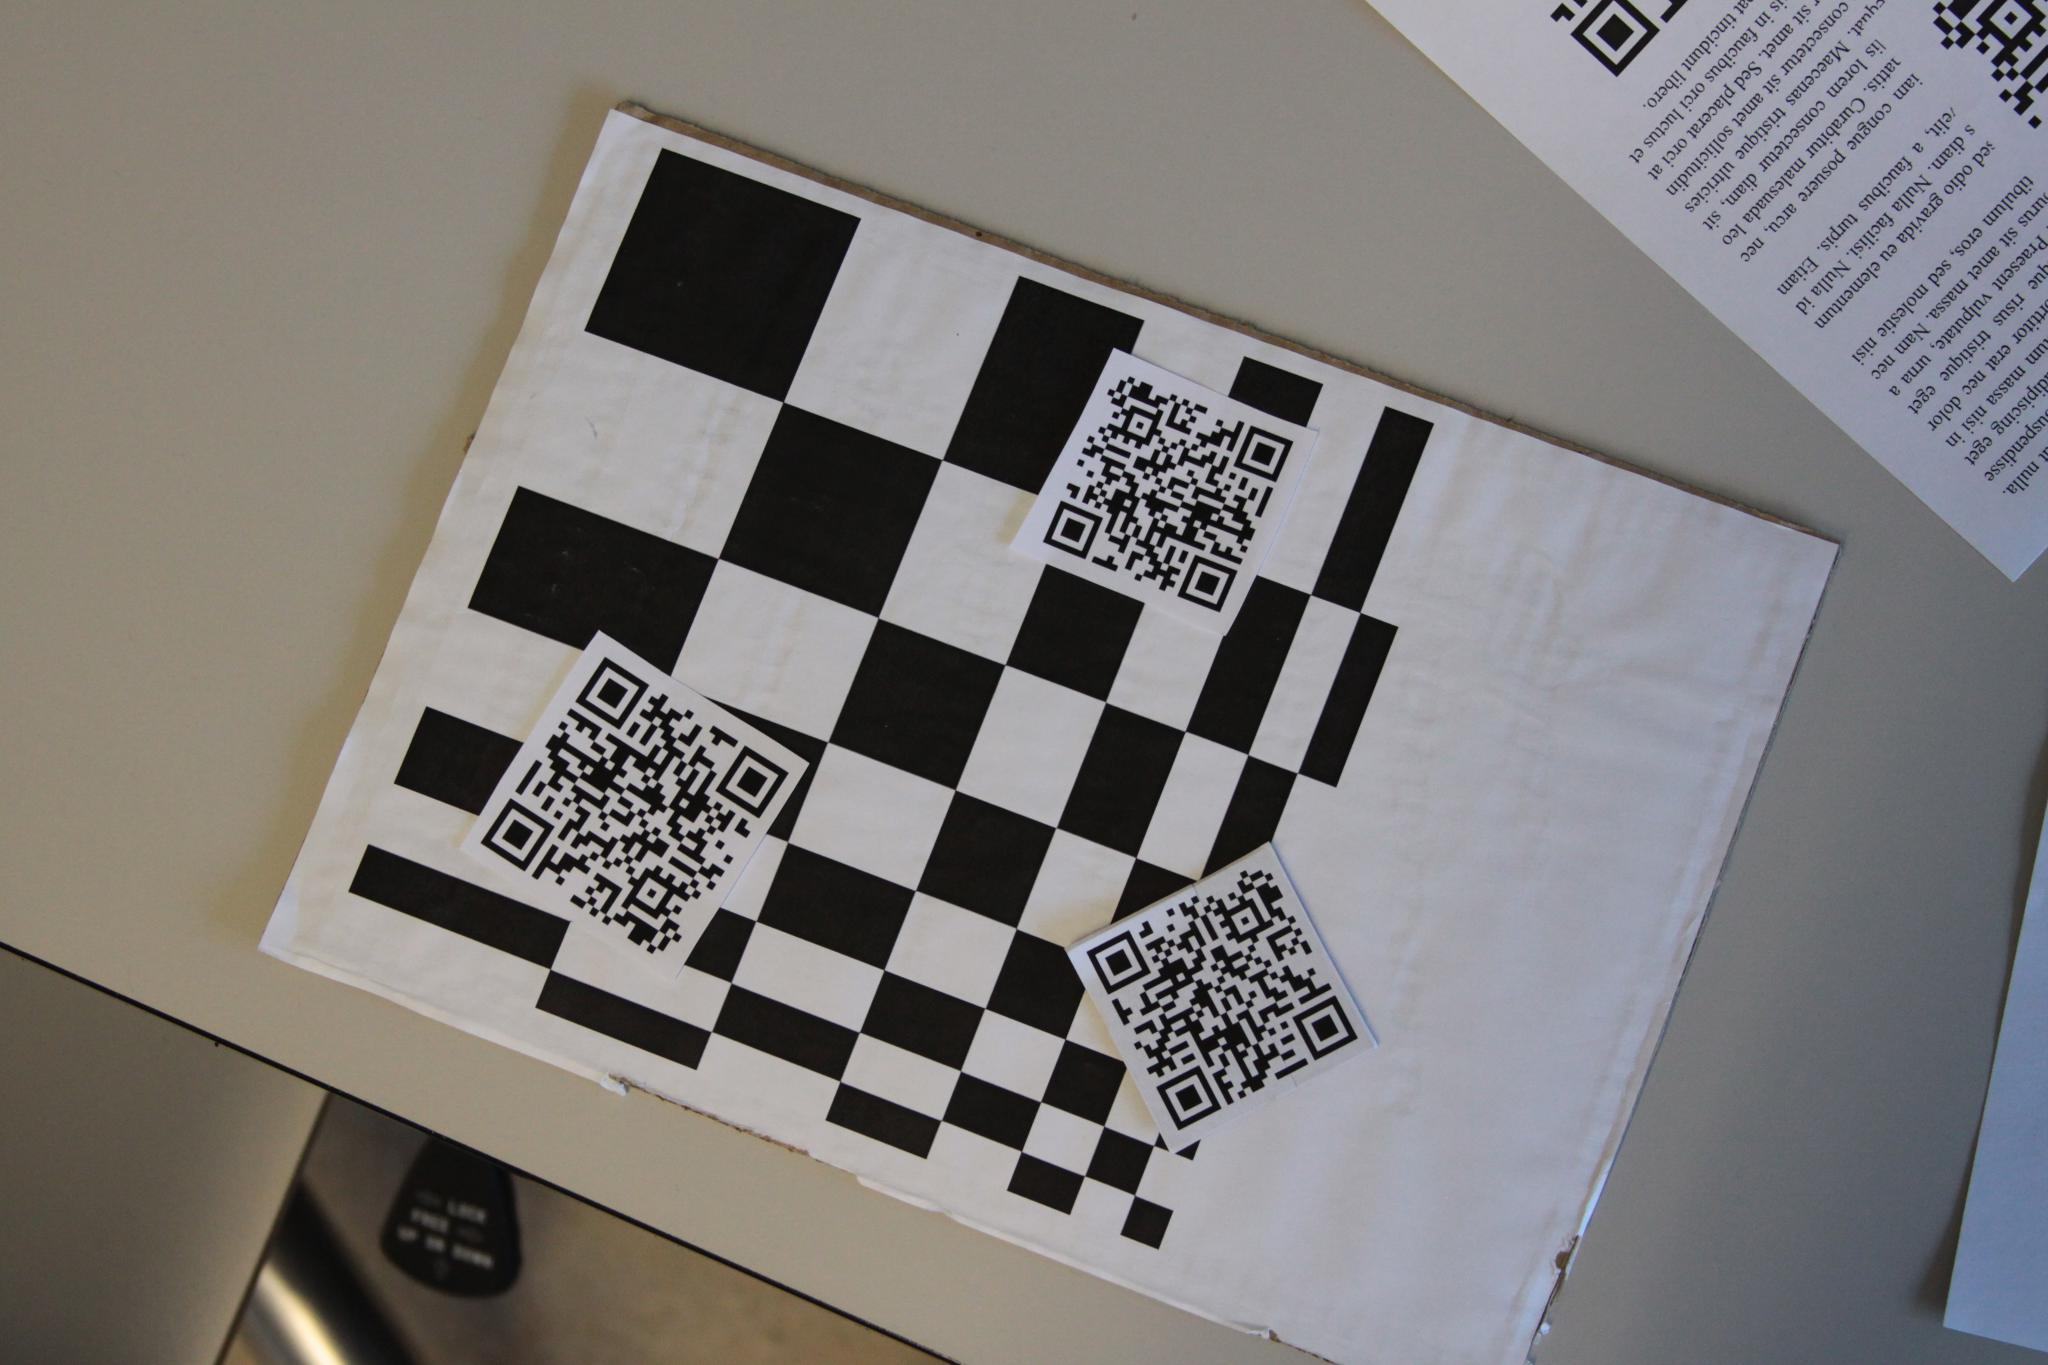Finder pattern: (1571, 0, 1660, 78), (708, 746, 793, 826), (569, 654, 655, 731), (481, 798, 554, 873), (1037, 497, 1109, 568), (1169, 548, 1241, 615), (1080, 929, 1153, 995), (1285, 993, 1360, 1057), (1156, 1062, 1217, 1133), (1233, 424, 1291, 484)
